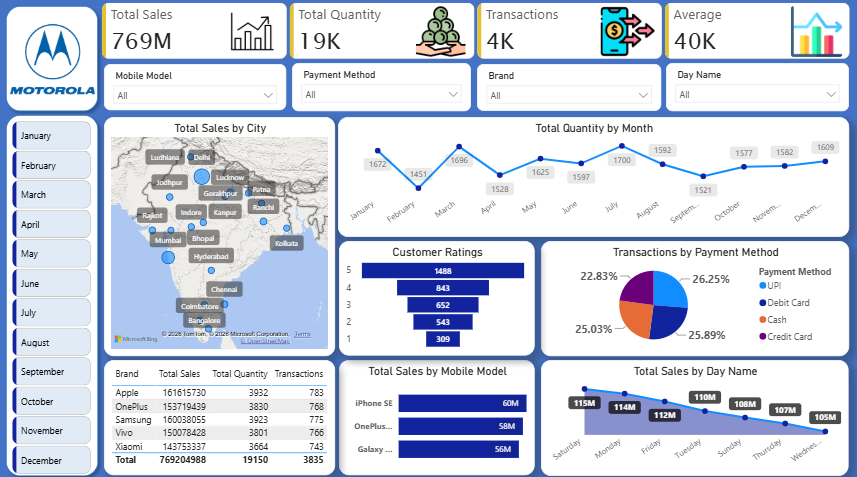

Layout of this report page (visuals, bound fields, positions):
{"tool":"powerbi","page":{"name":"Page 1","canvas":[1280,720],"ordinal":0},"visuals":[{"type":"shape","box":[0,0,155,175],"z":0},{"type":"image","box":[15,11.7,126.7,153.3],"z":1000},{"type":"shape","box":[0,163.1,155.4,556.9],"z":2000},{"type":"advancedSlicerVisual","fields":{"Values":["Sales_Data.Date.Variation.Date Hierarchy.Month"]},"box":[13.8,175.4,127.7,543.1],"z":3000},{"type":"cardVisual","fields":{"Data":["Sales_Data.Total Sales","Sales_Data.Total Quantity","Sales_Data.Total Transactions","Sales_Data.Average"]},"box":[142.9,0,1137.1,97.1],"z":4000},{"type":"map","fields":{"Category":["Sales_Data.City"],"Size":["Sales_Data.Total Sales"]},"box":[155.2,174.6,344.8,356.7],"z":5000},{"type":"slicer","fields":{"Values":["Sales_Data.Mobile Model"]},"box":[155.2,95.5,271.6,68.7],"z":6000},{"type":"slicer","fields":{"Values":["Sales_Data.Payment Method"]},"box":[435.8,94,267.2,71.6],"z":7000},{"type":"slicer","fields":{"Values":["Sales_Data.Brand"]},"box":[711.9,95.5,274.6,70.1],"z":8000},{"type":"slicer","fields":{"Values":["Sales_Data.Day Name"]},"box":[994,94,273.1,71.6],"z":9000},{"type":"lineChart","fields":{"Category":["Sales_Data.Date.Variation.Date Hierarchy.Month","Sales_Data.Date.Variation.Date Hierarchy.Day"],"Y":["Sales_Data.Total Quantity"]},"box":[504.5,174.6,762.7,179.1],"z":10000},{"type":"barChart","fields":{"Category":["Sales_Data.Mobile Model"],"Y":["Sales_Data.Total Sales"]},"box":[506.2,536.9,292.3,172.3],"z":11000},{"type":"pieChart","fields":{"Category":["Sales_Data.Payment Method"],"Y":["Sales_Data.Total Transactions"]},"box":[807.7,360,460,172.3],"z":12000},{"type":"funnel","title":"Customer Ratings","fields":{"Category":["Sales_Data.Customer Ratings"],"Y":["CountNonNull(Sales_Data.Customer Ratings)"]},"box":[505.4,360,292.3,171.4],"z":13000},{"type":"areaChart","fields":{"Y":["Sales_Data.Total Sales"],"Category":["Sales_Data.Day Name"]},"box":[807.8,537.1,459.4,172.8],"z":14000},{"type":"tableEx","fields":{"Values":["Sales_Data.Brand","Sales_Data.Total Sales","Sales_Data.Total Quantity","Sales_Data.Total Transactions"]},"box":[155.4,536.9,344.6,172.3],"z":15000}]}

Visuals, with their boxes in screenshot pixels (x1, y1, x2, y2), scaled from the page's 1280x720 canvas onto the 857x477 screenshot:
shape: [left=0, top=0, right=104, bottom=116]
image: [left=10, top=8, right=95, bottom=109]
shape: [left=0, top=108, right=104, bottom=476]
advancedSlicerVisual - Sales_Data.Date.Variation.Date Hierarchy.Month: [left=9, top=116, right=95, bottom=476]
cardVisual - Sales_Data.Total Sales x Sales_Data.Total Quantity: [left=96, top=0, right=856, bottom=64]
map - Sales_Data.City x Sales_Data.Total Sales: [left=104, top=116, right=335, bottom=352]
slicer - Sales_Data.Mobile Model: [left=104, top=63, right=286, bottom=109]
slicer - Sales_Data.Payment Method: [left=292, top=62, right=471, bottom=110]
slicer - Sales_Data.Brand: [left=477, top=63, right=660, bottom=110]
slicer - Sales_Data.Day Name: [left=666, top=62, right=848, bottom=110]
lineChart - Sales_Data.Date.Variation.Date Hierarchy.Month x Sales_Data.Date.Variation.Date Hierarchy.Day: [left=338, top=116, right=848, bottom=234]
barChart - Sales_Data.Mobile Model x Sales_Data.Total Sales: [left=339, top=356, right=535, bottom=470]
pieChart - Sales_Data.Payment Method x Sales_Data.Total Transactions: [left=541, top=238, right=849, bottom=353]
"Customer Ratings" funnel: [left=338, top=238, right=534, bottom=352]
areaChart - Sales_Data.Total Sales x Sales_Data.Day Name: [left=541, top=356, right=848, bottom=470]
tableEx - Sales_Data.Brand x Sales_Data.Total Sales: [left=104, top=356, right=335, bottom=470]
